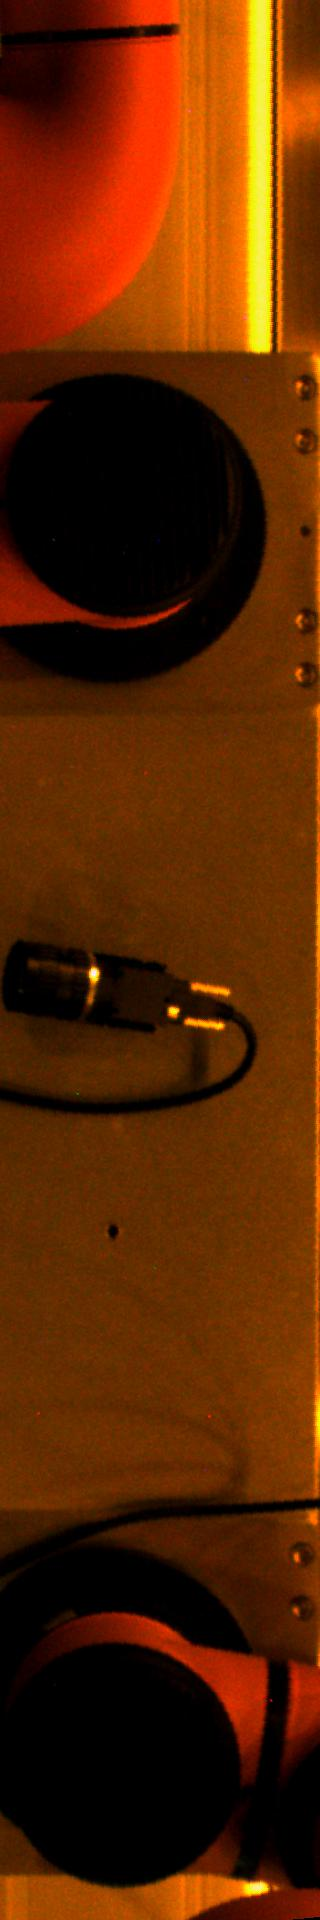keyPoint_2: (97, 1216, 128, 1247)
